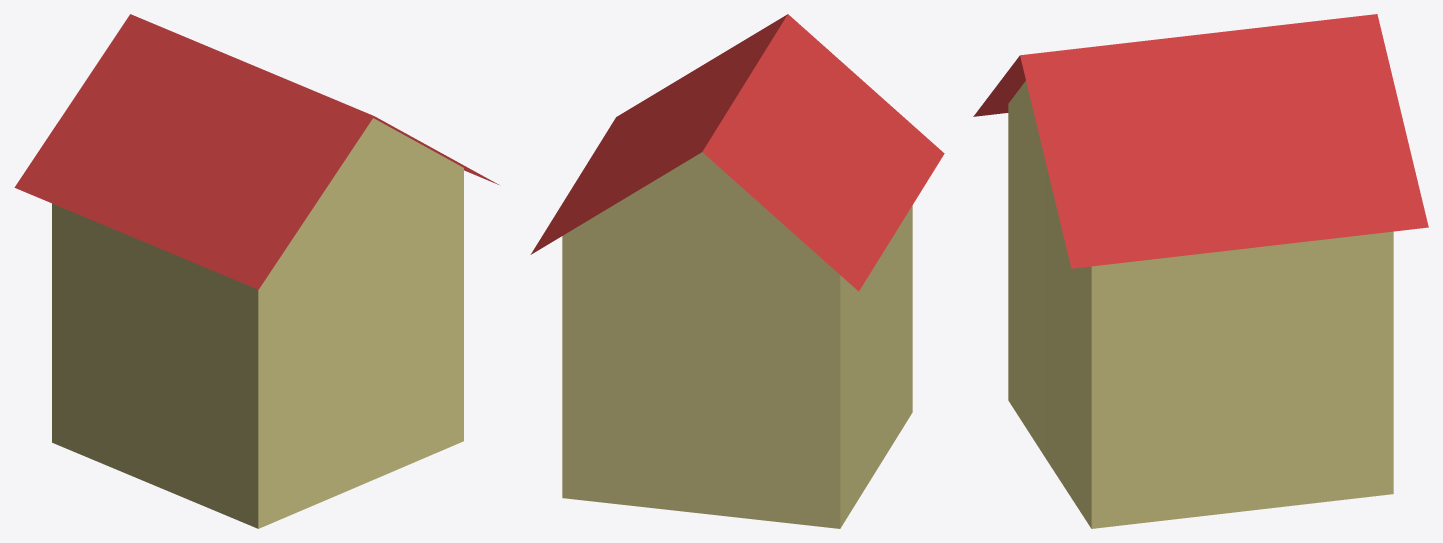
3 views of the same model, side by side, from view 1: azimuth 30°, elevation 25°; view 2: azimuth 150°, elevation 25°; view 3: azimuth 270°, elevation 25° (orthographic). The views are drawn at different scales.
Size of the model in its own units: 11.96 by 11.93 by 11.82.
